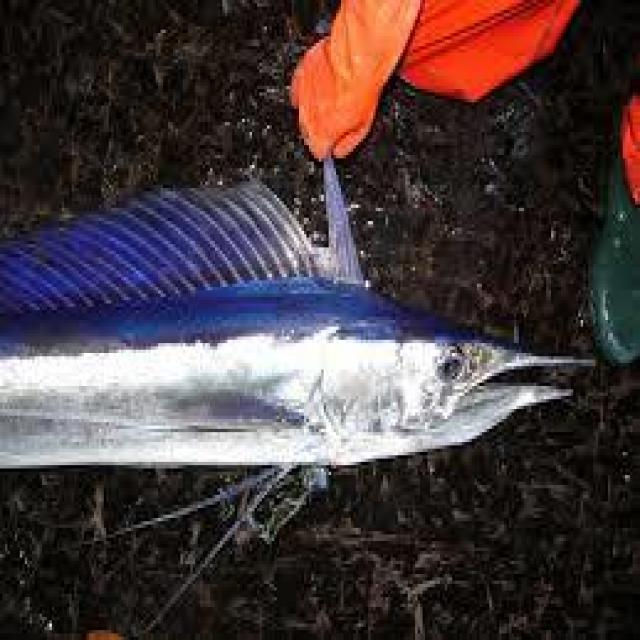Spear Fish: (2, 148, 596, 640)
